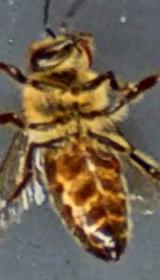varroa_mite: (94, 142, 125, 178)
